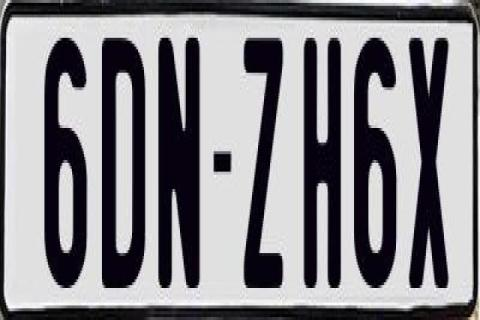0: (350, 38, 394, 294), (42, 38, 86, 291)
D: (102, 35, 150, 297)
H: (300, 35, 342, 288)
N: (158, 35, 204, 303)
X: (406, 35, 446, 288)
Z: (244, 29, 284, 285)
